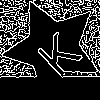K: (28, 23, 84, 80)
